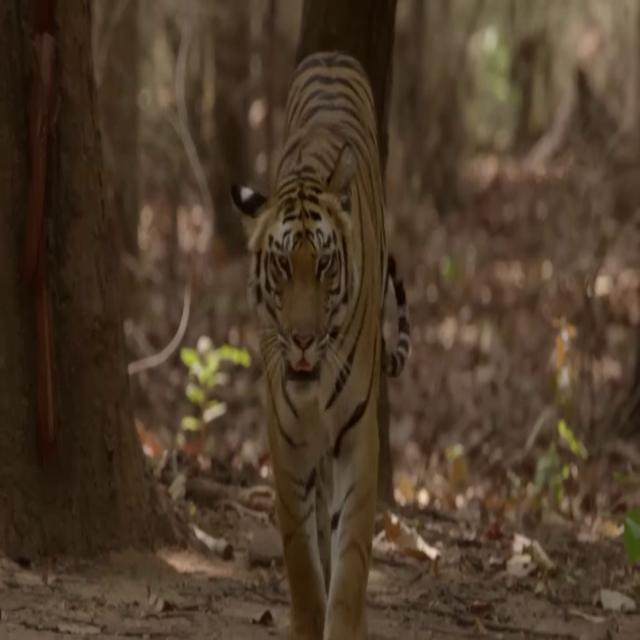tiger: (232, 49, 409, 637)
